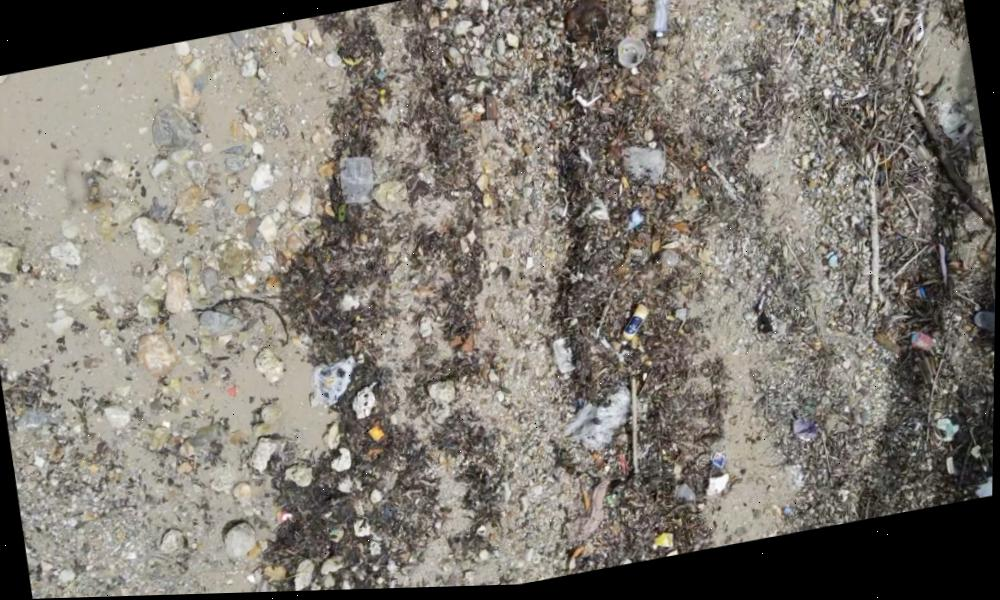plastic bag: (558, 386, 646, 465), (604, 135, 684, 200), (299, 355, 367, 420), (971, 475, 994, 504)
plastic bottle: (641, 0, 679, 53), (614, 307, 653, 354)
plastic container: (322, 144, 391, 224), (605, 30, 654, 81)
